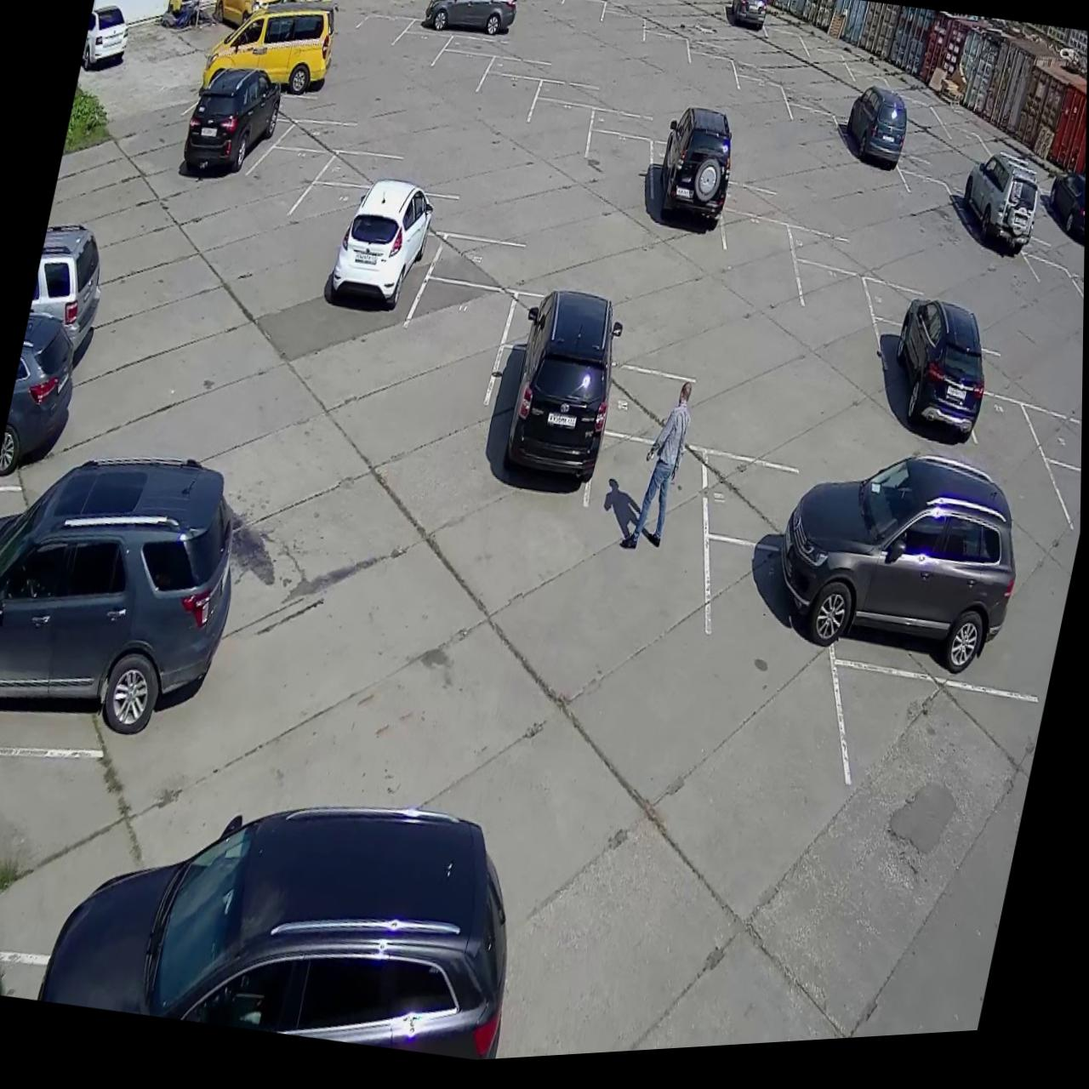cars: (0, 521, 246, 761), (669, 543, 837, 770), (834, 519, 1031, 679), (472, 330, 615, 525), (854, 313, 984, 465), (319, 218, 431, 352), (174, 82, 293, 186), (643, 142, 724, 250), (947, 192, 1032, 292), (830, 108, 898, 204), (410, 0, 510, 55), (1034, 180, 1085, 263), (723, 0, 769, 38)
empty: (0, 726, 193, 974), (828, 665, 1035, 860), (571, 430, 708, 610), (692, 445, 862, 563), (387, 274, 514, 416), (597, 354, 750, 457), (703, 207, 804, 340), (954, 393, 1051, 531), (773, 261, 872, 395), (500, 273, 645, 364), (275, 176, 366, 307), (433, 224, 576, 305), (238, 137, 322, 234), (856, 258, 952, 342), (321, 138, 435, 207), (782, 213, 871, 287), (363, 177, 474, 236), (890, 166, 957, 258), (1020, 250, 1084, 345), (287, 104, 386, 164), (957, 339, 1042, 408), (580, 136, 650, 217), (725, 67, 791, 151), (716, 168, 808, 228), (524, 99, 588, 182), (777, 95, 841, 175), (1022, 403, 1082, 485), (679, 49, 743, 123), (441, 17, 525, 72), (878, 90, 941, 158), (634, 23, 691, 97), (798, 33, 860, 100), (588, 98, 662, 153), (472, 74, 534, 138), (935, 116, 1001, 175), (541, 70, 615, 122), (591, 6, 645, 76), (484, 47, 561, 94), (392, 26, 445, 93), (846, 57, 898, 119), (433, 51, 488, 108), (355, 15, 407, 70), (758, 22, 806, 80), (554, 0, 601, 52)
